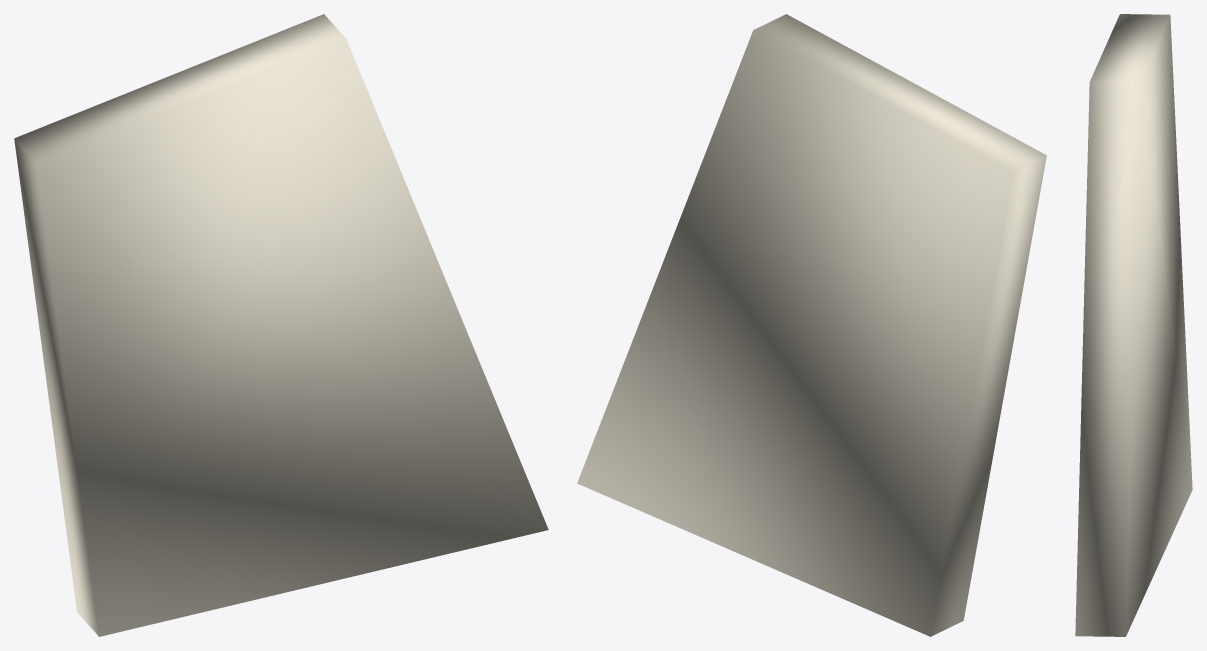
3 views of the same model, side by side, from view 1: azimuth 30°, elevation 25°; view 2: azimuth 150°, elevation 25°; view 3: azimuth 270°, elevation 25° (orthographic). The views are drawn at different scales.
Visible parts, largest first — view 1: ZA_5cd27d35f33a4c25; view 2: ZA_5cd27d35f33a4c25; view 3: ZA_5cd27d35f33a4c25.
Part boxes in pixels (x1,y1,x2,y2): ZA_5cd27d35f33a4c25: [14, 14, 548, 636]; ZA_5cd27d35f33a4c25: [577, 14, 1046, 636]; ZA_5cd27d35f33a4c25: [1075, 14, 1192, 636].
Bounding box in the file's own units: 0.00493 × 0.00544 × 0.00115.
